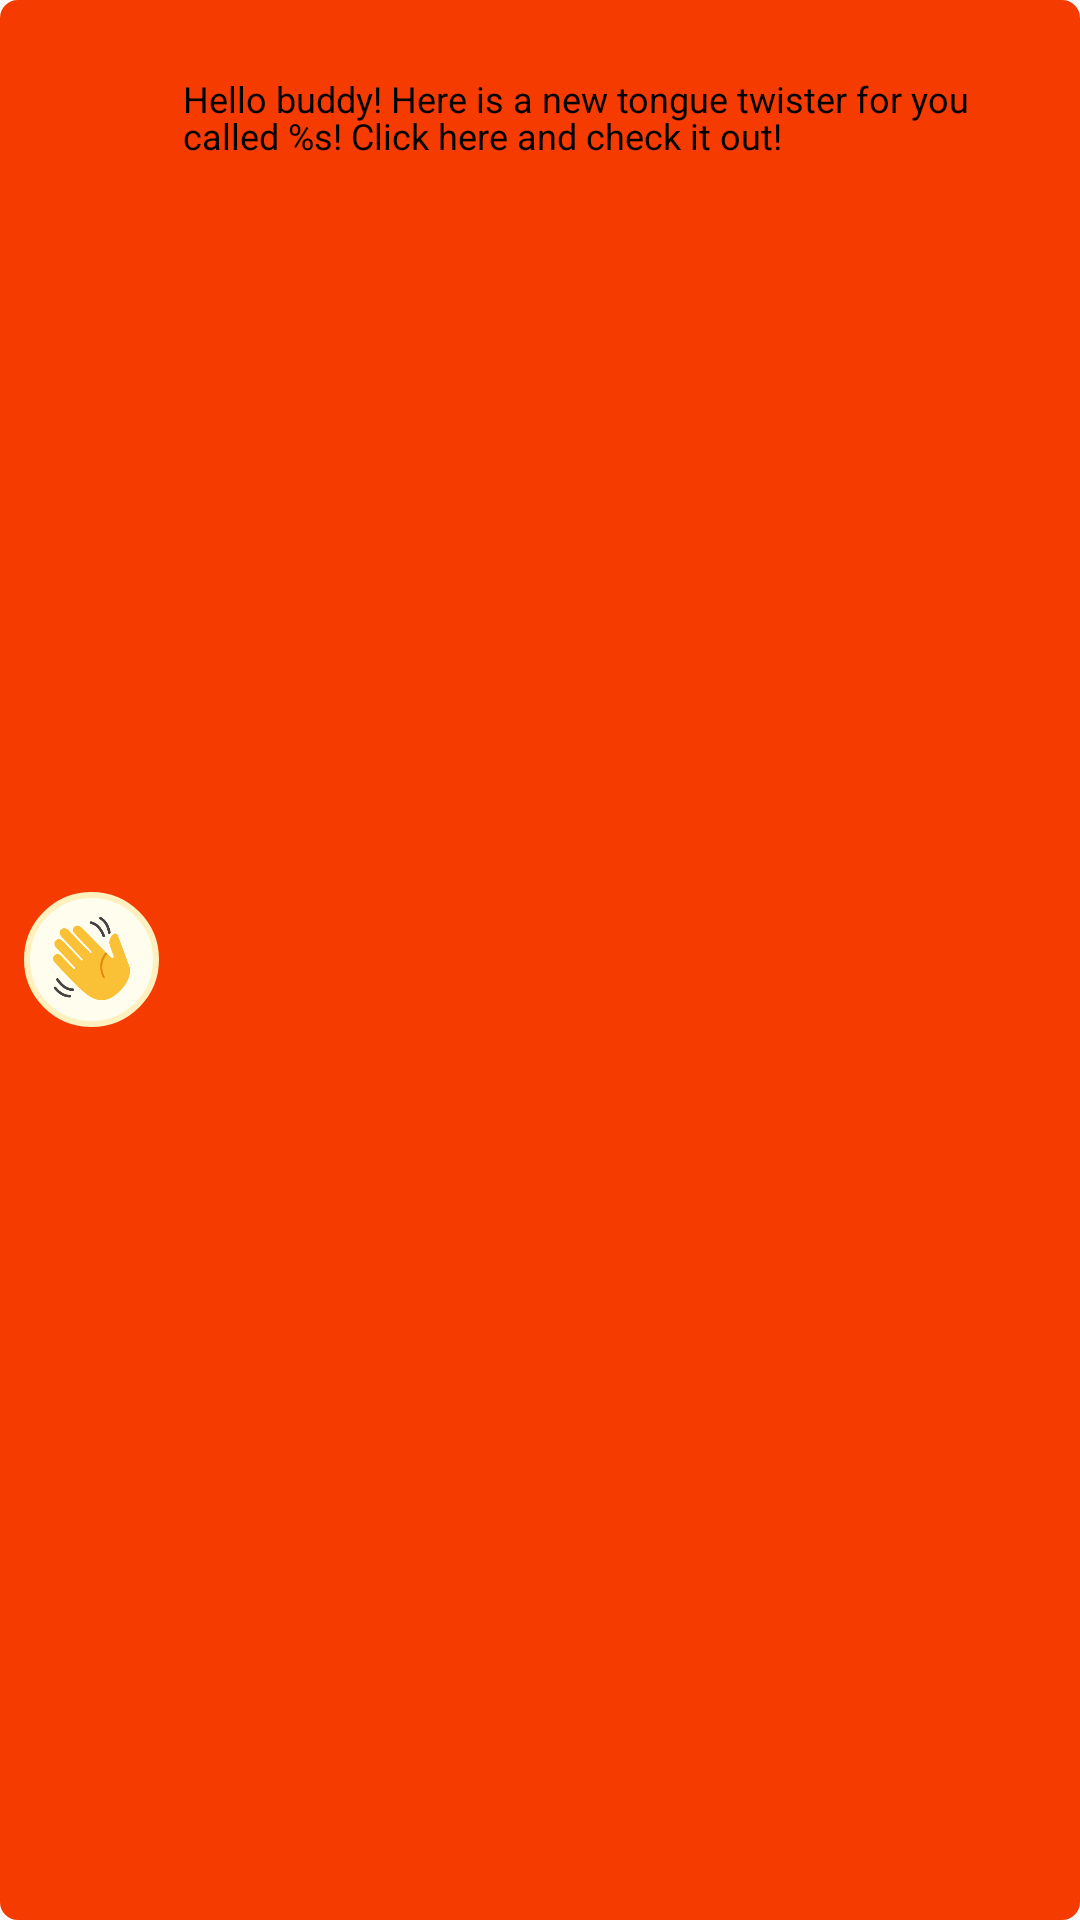

Point at icon controls on the screen. Image size 1080×1920, points as (x,y).
hand hello: (91,959)
